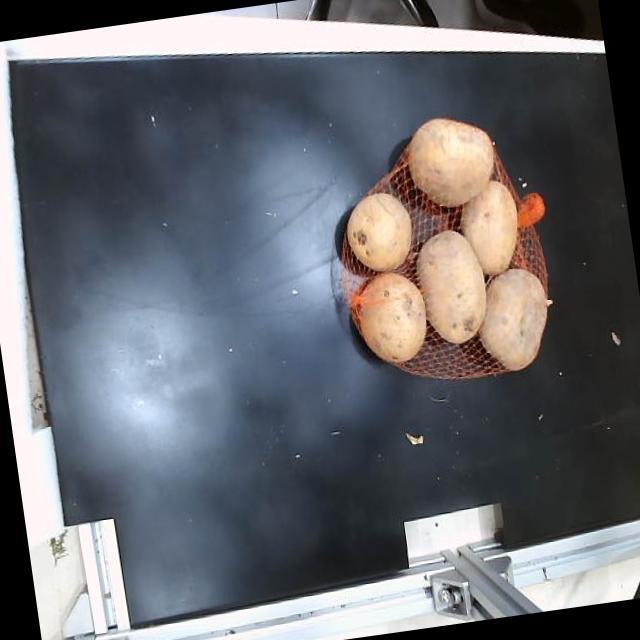potato: (417, 231, 486, 343), (408, 118, 495, 205), (479, 268, 548, 371), (352, 273, 427, 364), (460, 181, 518, 274), (346, 195, 412, 270)
